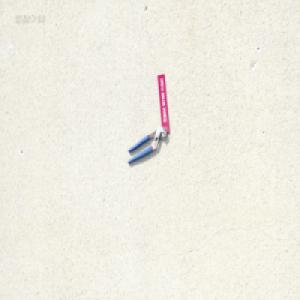Label: (156, 73, 170, 133)
Pliers: (127, 125, 166, 164)
